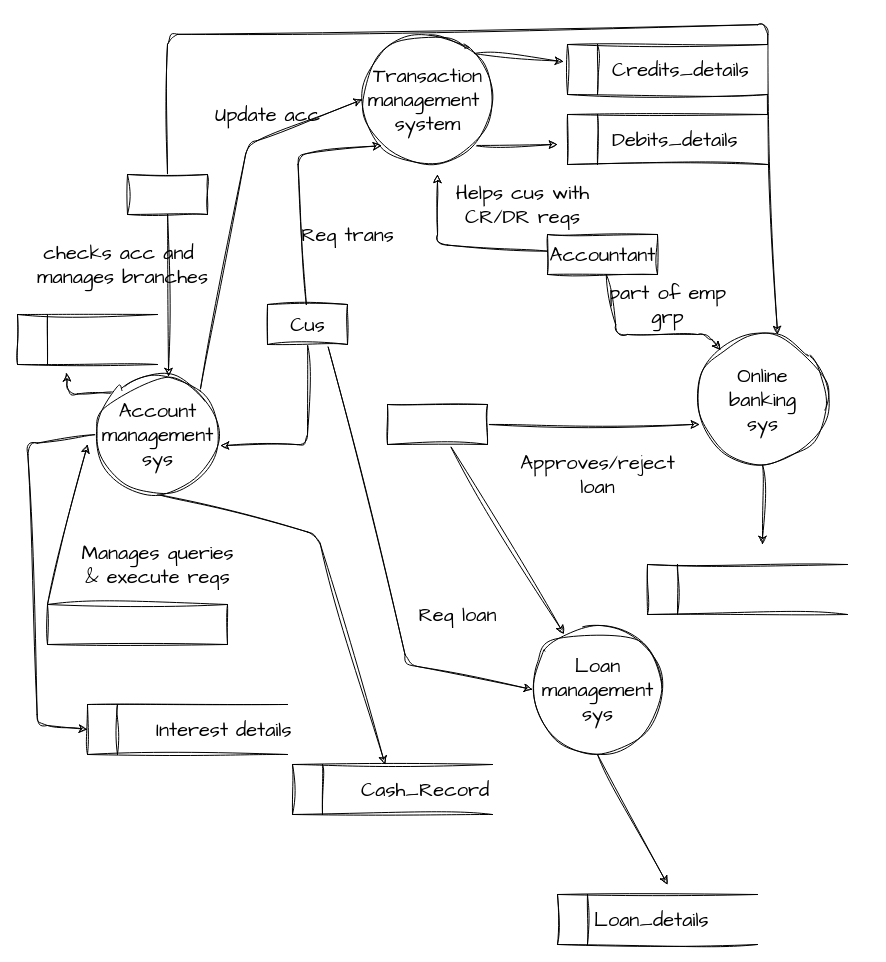
Some shapes in this 886 by 962 pixel diagram are drawn without their labels. Each missing label, with the centre of its shape:
Acc Details: the point at 87,339
Accountatn/Cashier: the point at 137,624
Bank: the point at 167,194
Employee_records: the point at 747,589
Manager: the point at 437,424
